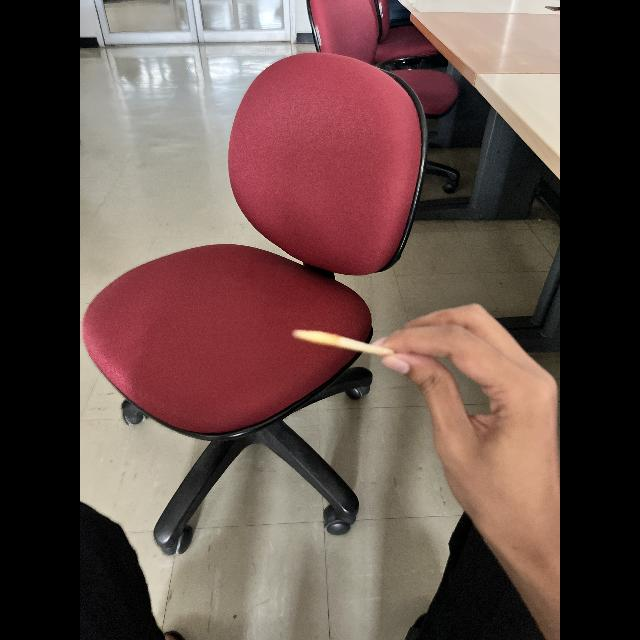stick: (284, 316, 396, 358)
